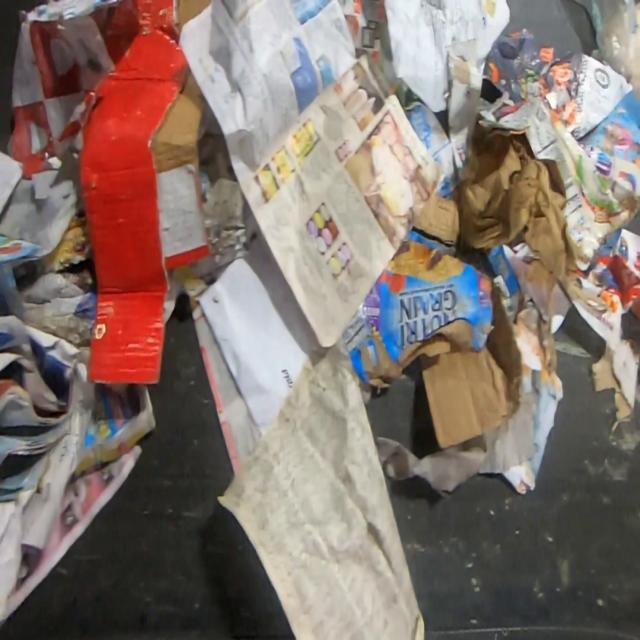cardboard: (79, 0, 214, 386), (341, 228, 522, 449), (411, 119, 590, 282)
soft_plastic: (589, 1, 640, 109)
